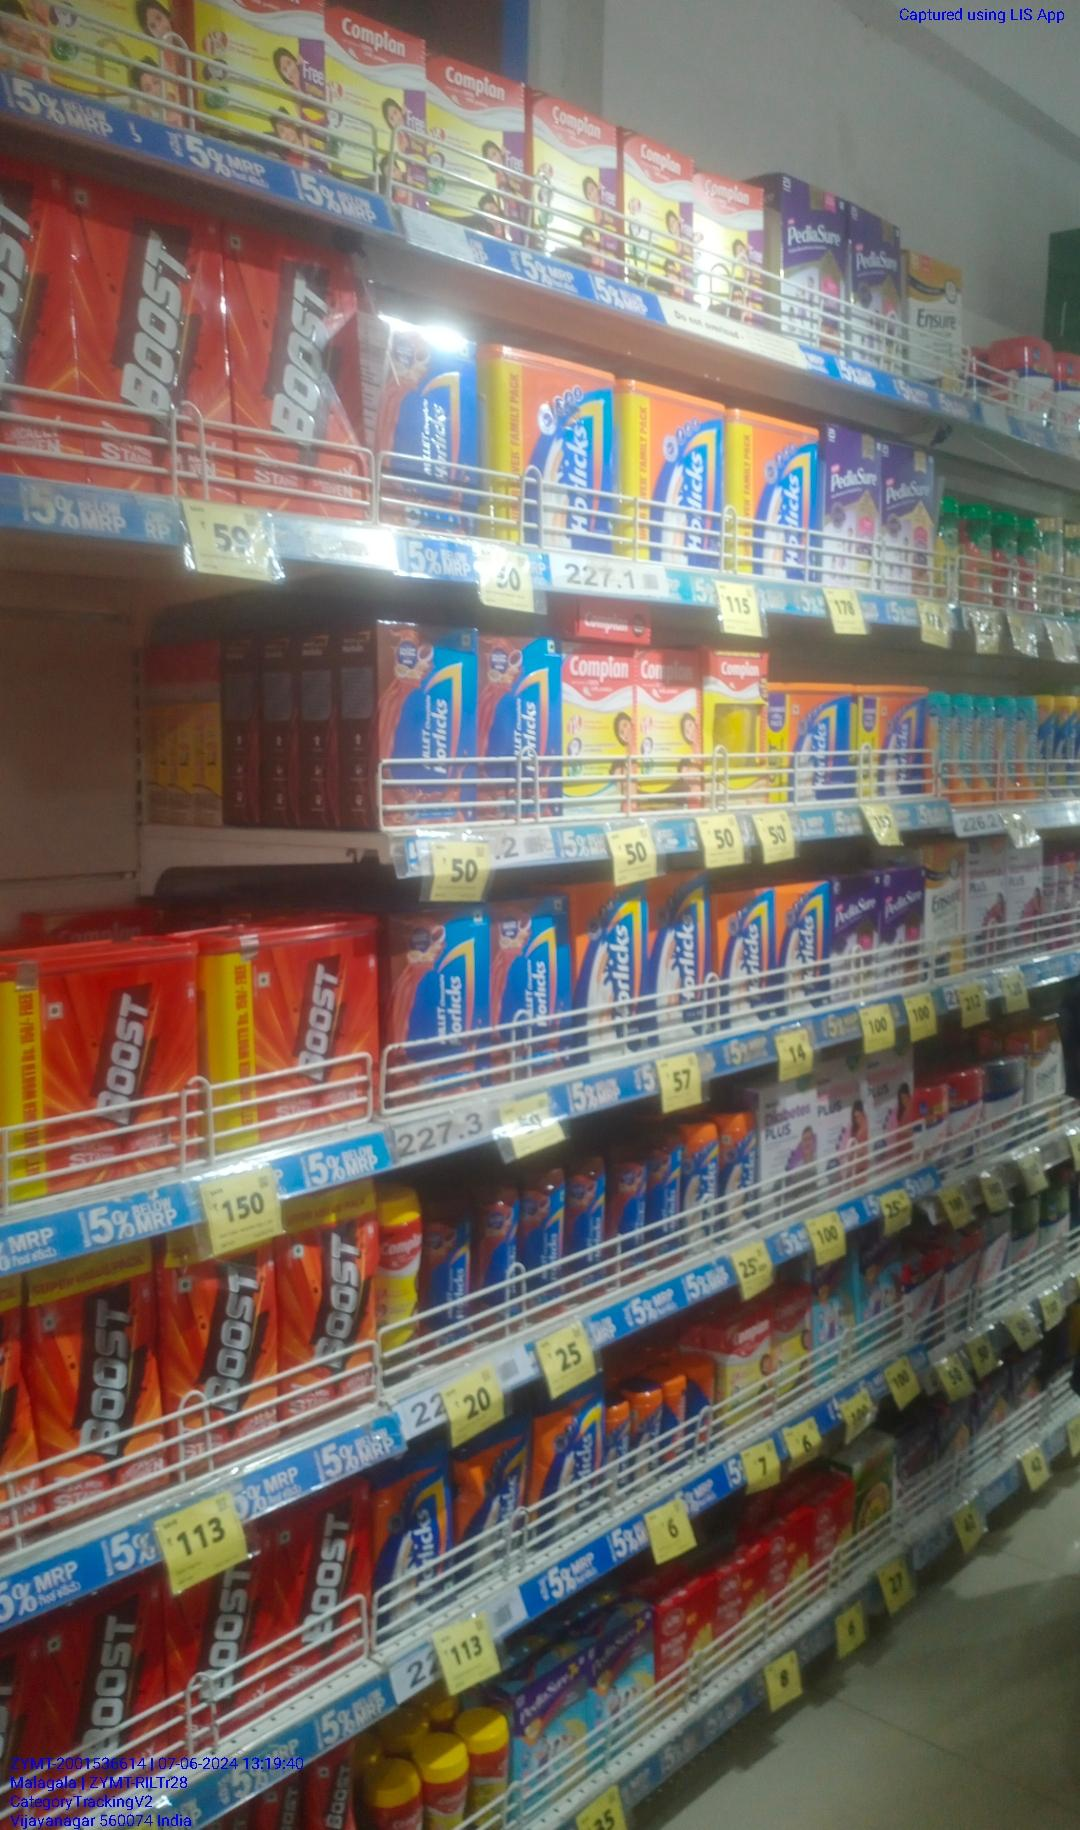HORLICK_CLASSIC_MALT_500_G_JAR: (724, 1110, 757, 1229), (683, 1121, 715, 1241)
HORLICK_CLASSIC_MALT_500_G_PACK: (714, 896, 775, 1020), (783, 891, 823, 1011)
HORLICK_MALT_1_KG_CONTAINER: (492, 342, 612, 544), (622, 382, 721, 572), (733, 419, 819, 572), (774, 691, 850, 801), (863, 685, 927, 797)
